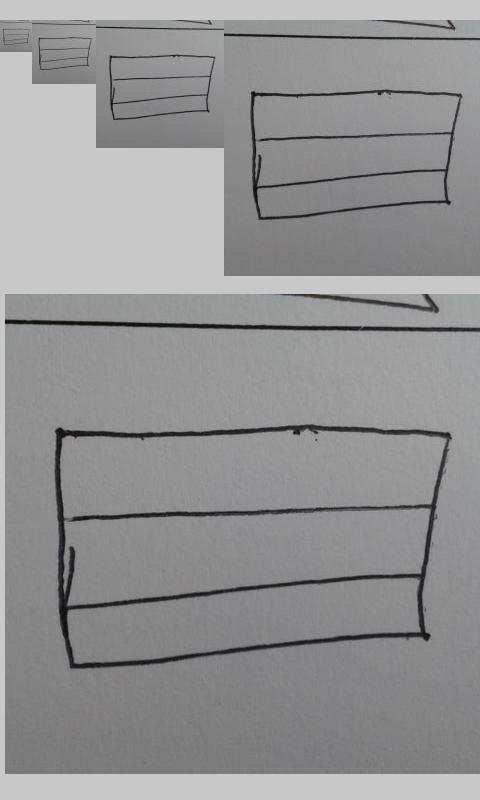list_view: (51, 416, 453, 670), (251, 87, 465, 221), (108, 54, 215, 121), (38, 36, 92, 71), (2, 28, 31, 46)
